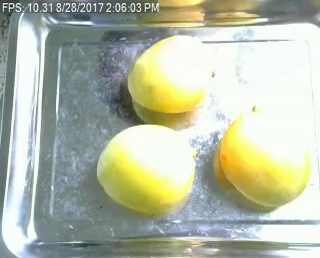Mango: (216, 108, 312, 208), (99, 121, 197, 210), (128, 32, 221, 114)
